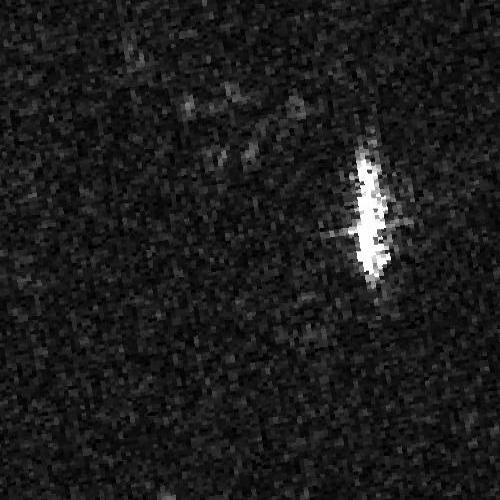ship: (356, 150, 391, 282)
